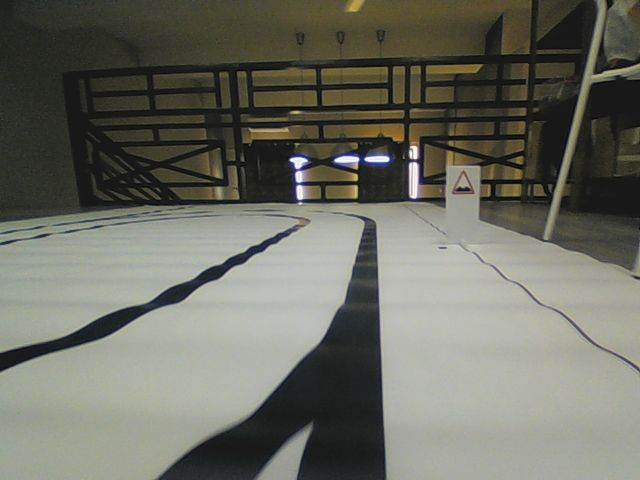Nerov: (451, 167, 475, 196)
